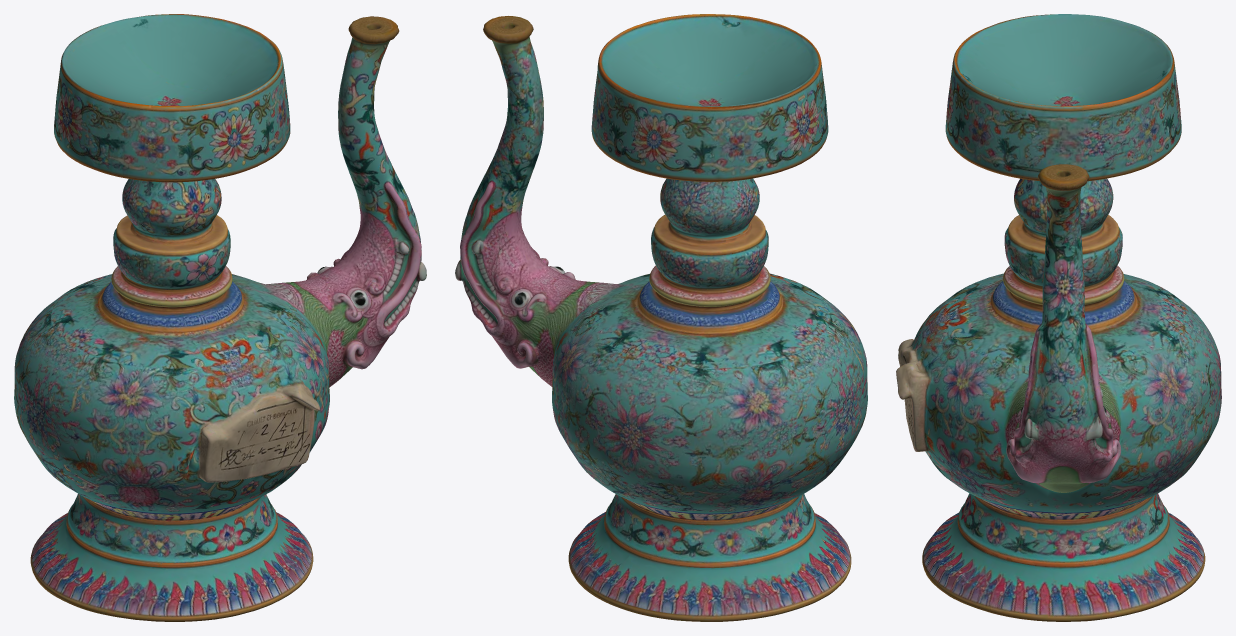
Rendered from 绿地粉彩勾莲八宝纹奔巴壶.glb.
3 renders of one model, left to right at view 1: azimuth 30°, elevation 25°; view 2: azimuth 150°, elevation 25°; view 3: azimuth 270°, elevation 25°, orthographic.
Visible parts, largest first — view 1: tripo_node_a3e7ce1f; view 2: tripo_node_a3e7ce1f; view 3: tripo_node_a3e7ce1f.
Part boxes in pixels (x1,y1,x2,y2): tripo_node_a3e7ce1f: [14, 14, 426, 621]; tripo_node_a3e7ce1f: [455, 14, 867, 621]; tripo_node_a3e7ce1f: [896, 14, 1221, 621].
Bounding box in the file's own units: 77.77 × 98.11 × 57.45.
Materials: 1 (1 with a texture image).
